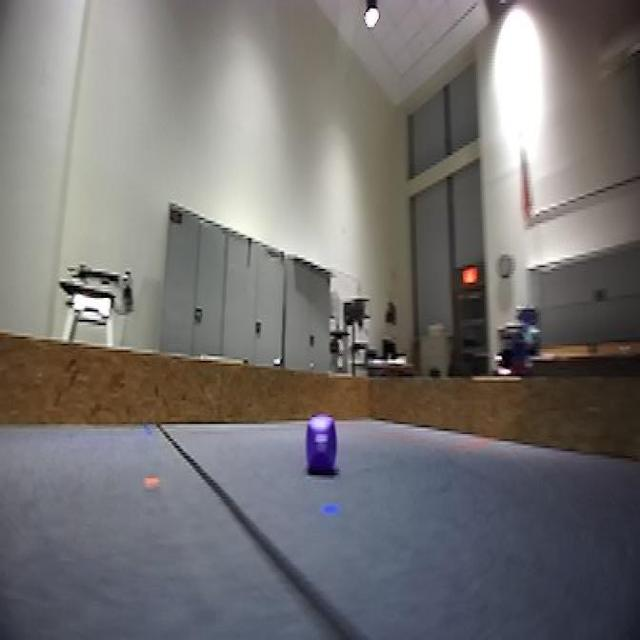frc_cube: (305, 418, 340, 476)
